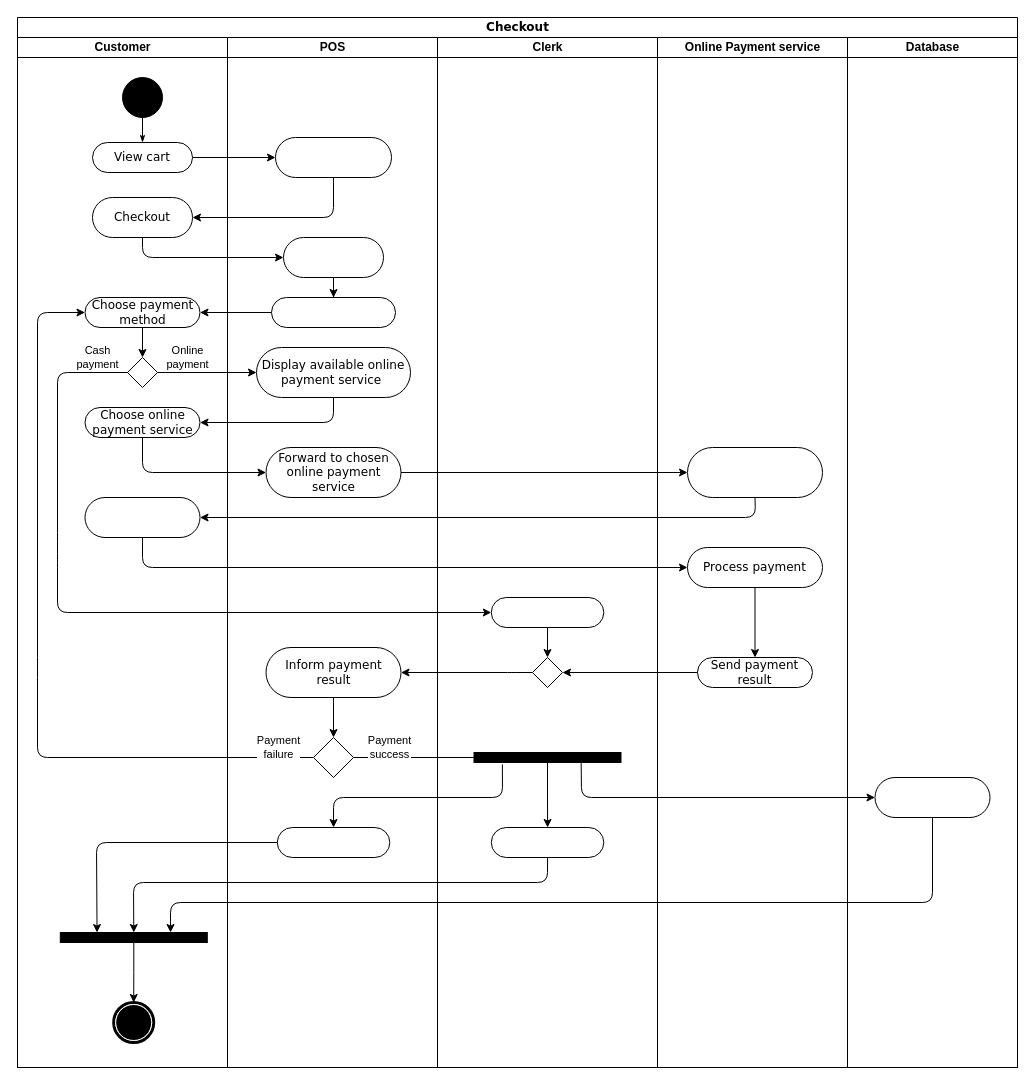
Some shapes in this 1035 by 1085 pixel diagram are drawn without their labels. Each missing label, with the centre of its shape:
"Confirm order" belongs at (x=547, y=842).
"Display available payment method" belongs at (x=333, y=312).
"Display cart" belongs at (x=333, y=157).
"Display detail order" belongs at (x=333, y=257).
"Display payment interface" belongs at (x=754, y=472).
"Fill in payment detail form" belongs at (x=142, y=517).
"Process order" belongs at (x=547, y=612).
"Save payment detail" belongs at (x=932, y=797).
"Send receipt to Customer email" belongs at (x=333, y=842).
